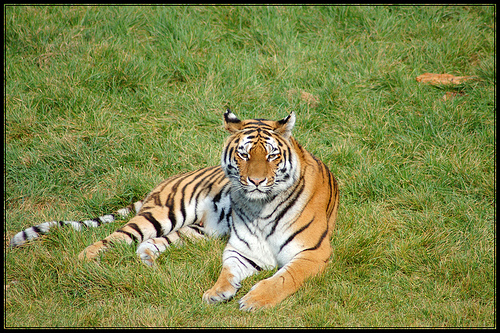Tigre: (102, 97, 352, 304)
